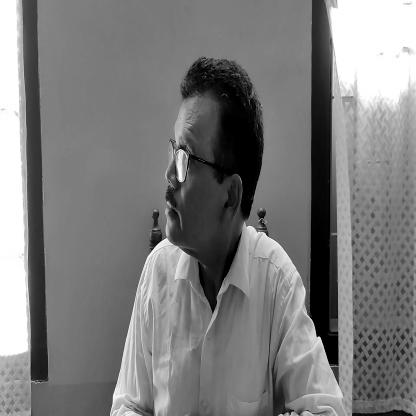Distracted: (162, 64, 268, 260)
